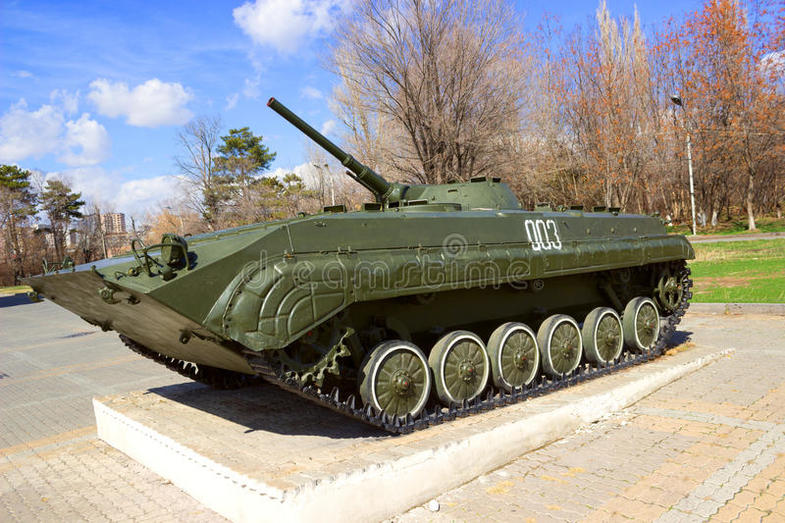bmp: (24, 132, 696, 432)
